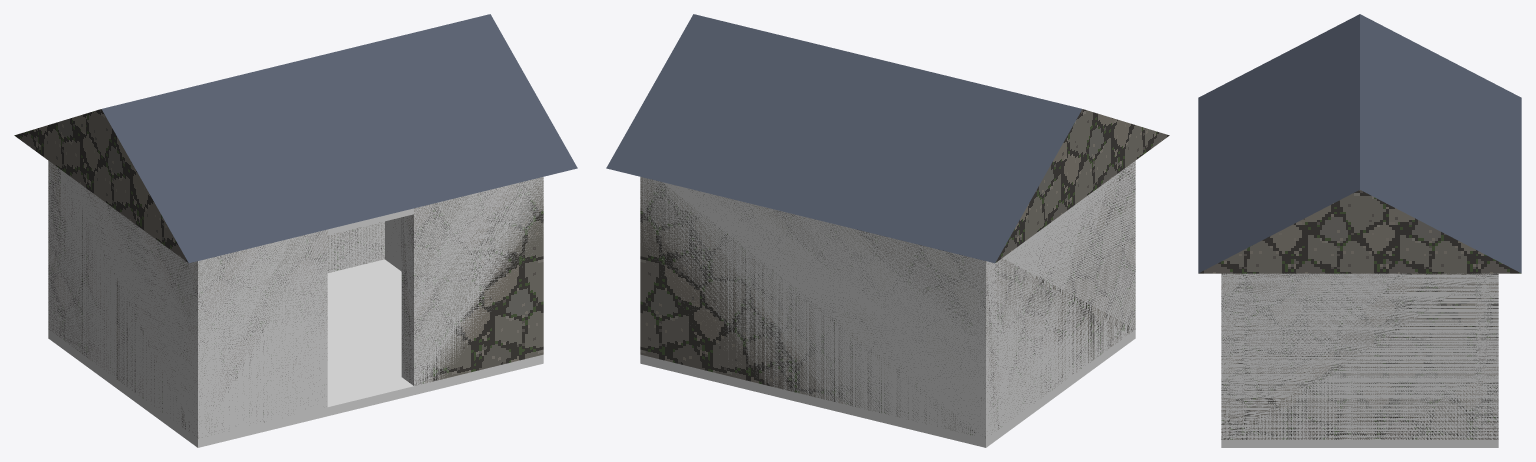
Rendered from house.glb.
3 views of the same model, side by side, from view 1: azimuth 30°, elevation 25°; view 2: azimuth 150°, elevation 25°; view 3: azimuth 270°, elevation 25° (orthographic). The views are drawn at different scales.
Parts seen in each view (by area): view 1: roof, col_wall_west, col_wall_south_w, col_wall_south_e, wall_south_e, col_floor, col_wall_north, wall_west, wall_south_w, wall_north, col_wall_east, col_lintel; view 2: roof, col_wall_north, wall_north, col_wall_west, wall_west, col_floor, col_wall_east, wall_east; view 3: roof, col_wall_east, wall_east, col_floor, col_wall_south_e, col_wall_north, wall_south_e, wall_north.
Part boxes in pixels (left/top/right/bottom): roof: left=14, top=14, right=577, bottom=263; col_wall_west: left=48, top=162, right=219, bottom=446; col_wall_south_w: left=185, top=229, right=327, bottom=447; col_wall_south_e: left=401, top=177, right=543, bottom=394; wall_south_e: left=401, top=178, right=543, bottom=385; col_floor: left=48, top=259, right=543, bottom=447; col_wall_north: left=48, top=161, right=384, bottom=345; wall_west: left=48, top=163, right=219, bottom=438; wall_south_w: left=186, top=230, right=327, bottom=437; wall_north: left=48, top=161, right=384, bottom=336; col_wall_east: left=385, top=177, right=543, bottom=363; col_lintel: left=327, top=208, right=413, bottom=235; roof: left=606, top=14, right=1169, bottom=263; col_wall_north: left=640, top=177, right=998, bottom=447; wall_north: left=640, top=177, right=998, bottom=435; col_wall_west: left=964, top=161, right=1135, bottom=445; wall_west: left=970, top=161, right=1135, bottom=437; col_floor: left=640, top=329, right=1135, bottom=447; col_wall_east: left=640, top=177, right=661, bottom=368; wall_east: left=640, top=178, right=659, bottom=355; roof: left=1198, top=14, right=1521, bottom=273; col_wall_east: left=1221, top=273, right=1498, bottom=447; wall_east: left=1221, top=273, right=1498, bottom=439; col_floor: left=1221, top=439, right=1498, bottom=447; col_wall_south_e: left=1221, top=273, right=1244, bottom=447; col_wall_north: left=1475, top=273, right=1498, bottom=447; wall_south_e: left=1221, top=274, right=1244, bottom=439; wall_north: left=1476, top=273, right=1498, bottom=439.
Size of the model in its own units: 4.5 by 3.2 by 3.5.
Materials: 4 (3 with a texture image).
